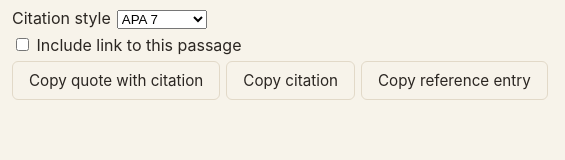
Test: CiteControl › says_when_only_plain_text_was_copied
The width and height of the screenshot is (565, 160).
Click the button "Copy citation": (291, 80) [226, 61, 355, 100]
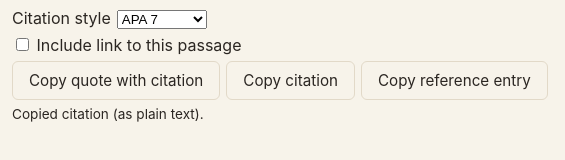
Expected: the message shows "plain text", [12, 106, 204, 122]
